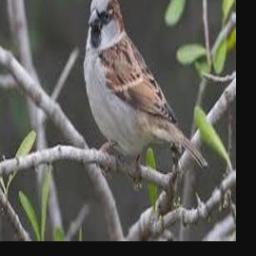Sparrow: (83, 0, 207, 170)
